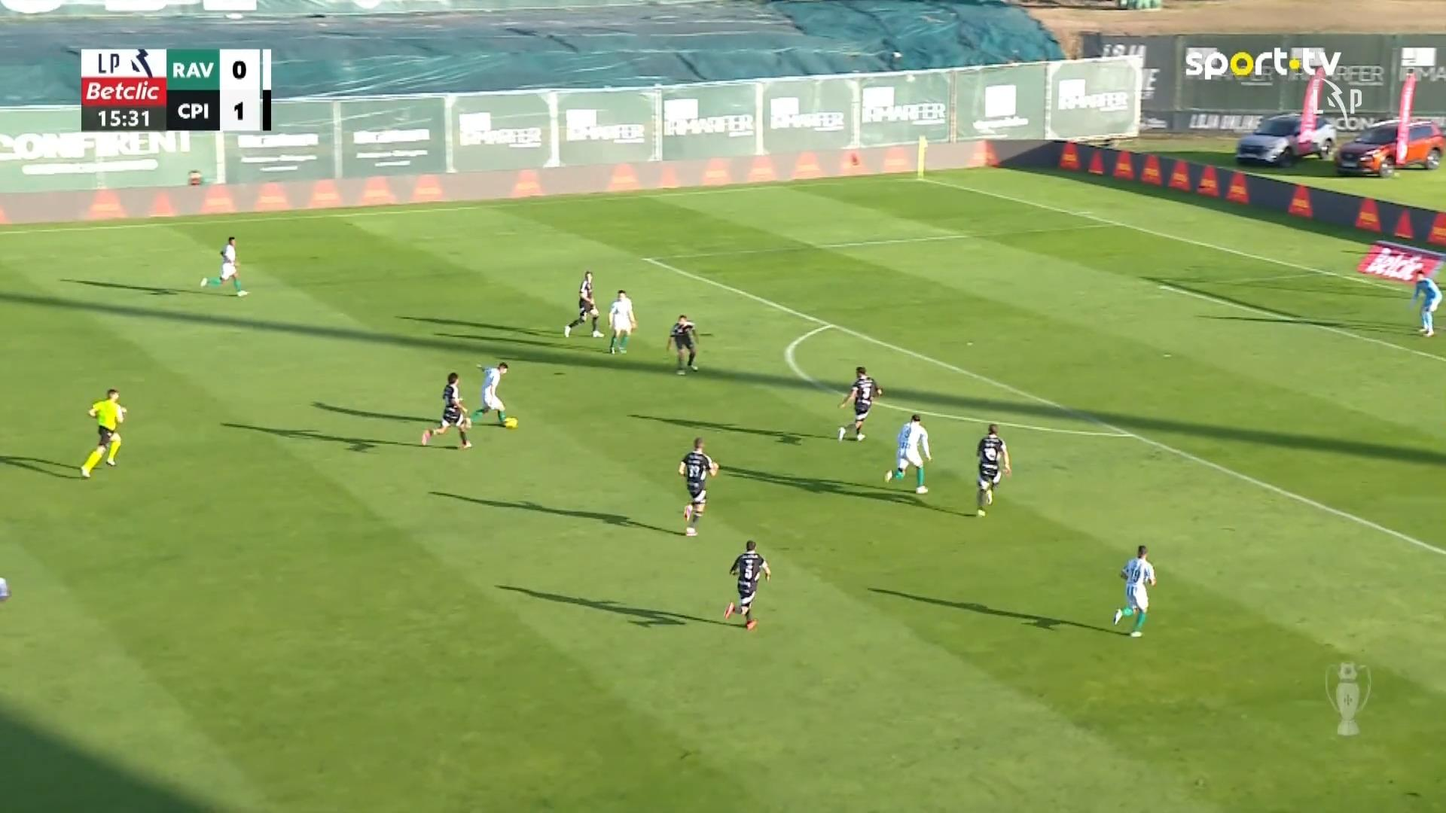ball: (503, 416, 517, 428)
goalkeeper: (1408, 268, 1441, 336)
player: (722, 539, 770, 630), (1112, 544, 1157, 637), (677, 436, 718, 536), (883, 412, 932, 495), (420, 371, 472, 449), (836, 365, 882, 441), (974, 422, 1011, 516), (199, 236, 249, 297), (563, 270, 605, 339), (471, 361, 509, 425), (666, 313, 699, 375), (606, 288, 636, 354)
referee: (78, 387, 127, 479)
